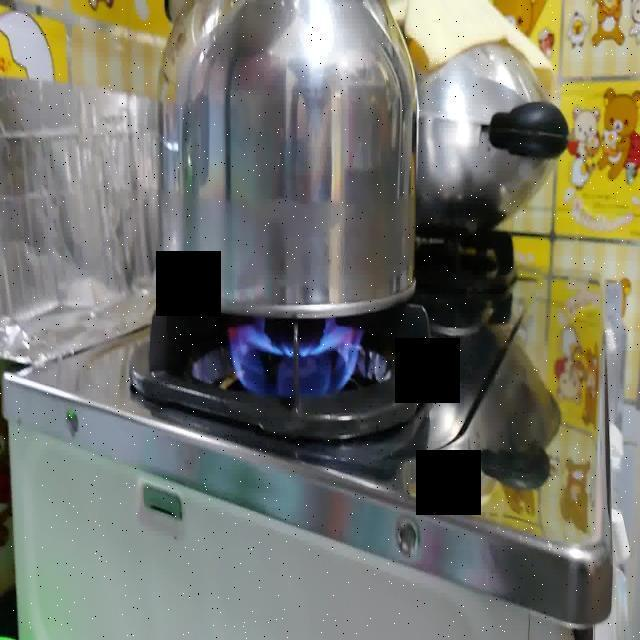Flame: (221, 323, 365, 406)
Pan: (161, 7, 418, 314)
